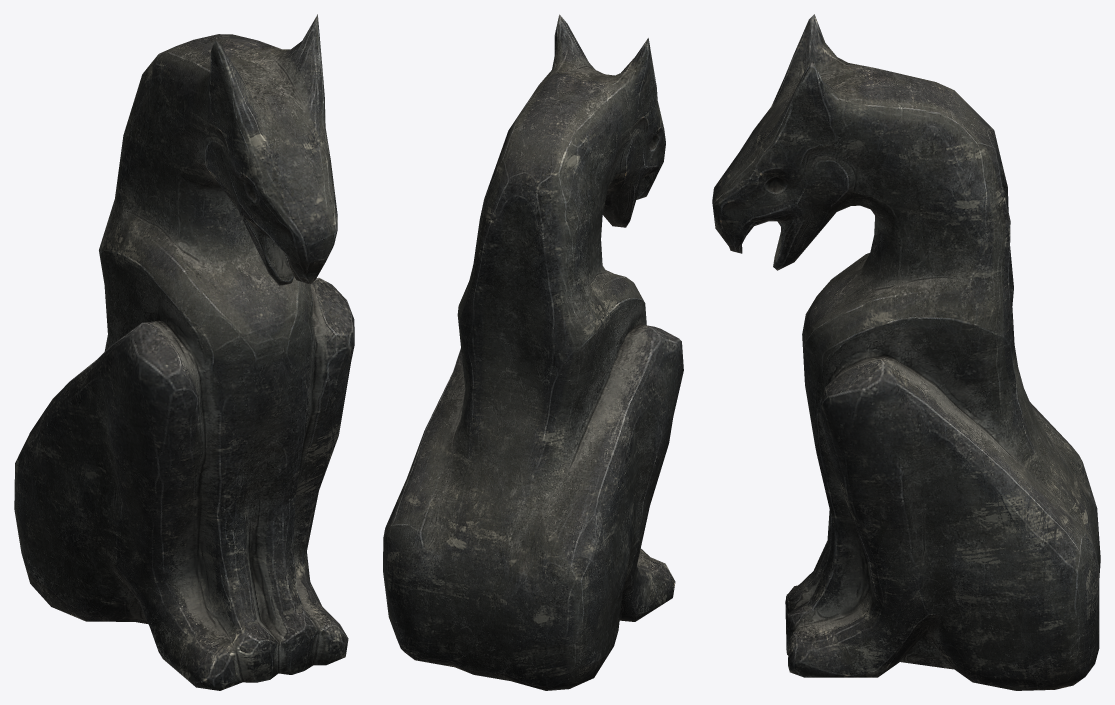
The model's file is statue_1.glb.
The picture shows the model from 3 angles, left to right: view 1: azimuth 30°, elevation 25°; view 2: azimuth 150°, elevation 25°; view 3: azimuth 270°, elevation 25°; orthographic projection. The views are drawn at different scales.
Parts seen in each view (by area): view 1: staue1; view 2: staue1; view 3: staue1.
Boxes of the visible parts, <box> form: staue1: <box>14,14,354,690</box>; staue1: <box>383,14,683,690</box>; staue1: <box>712,14,1100,690</box>.
Size of the model in its own units: 3.02 by 7.79 by 4.49.
Materials: 1 (1 with a texture image).
